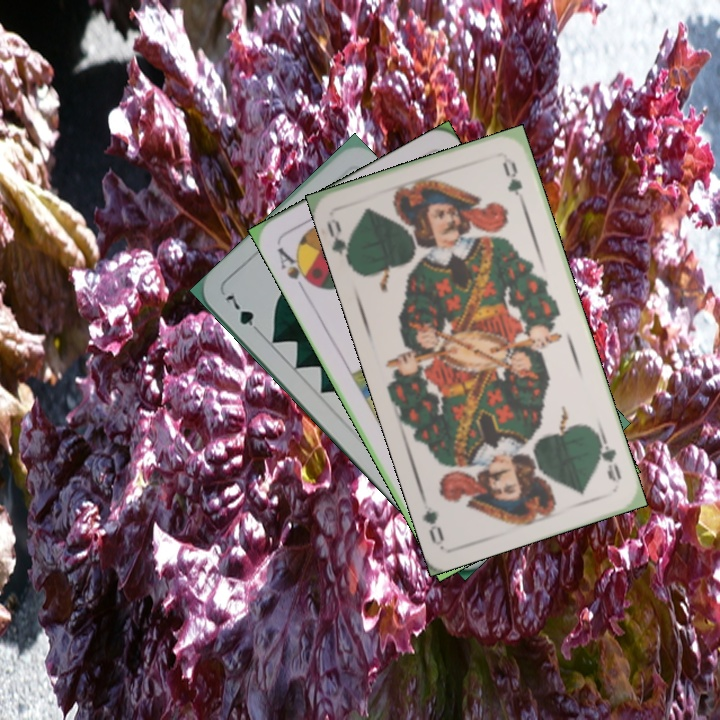G7: (221, 290, 265, 338)
GO: (322, 214, 355, 270), (594, 429, 625, 484)
SA: (273, 243, 317, 295)
